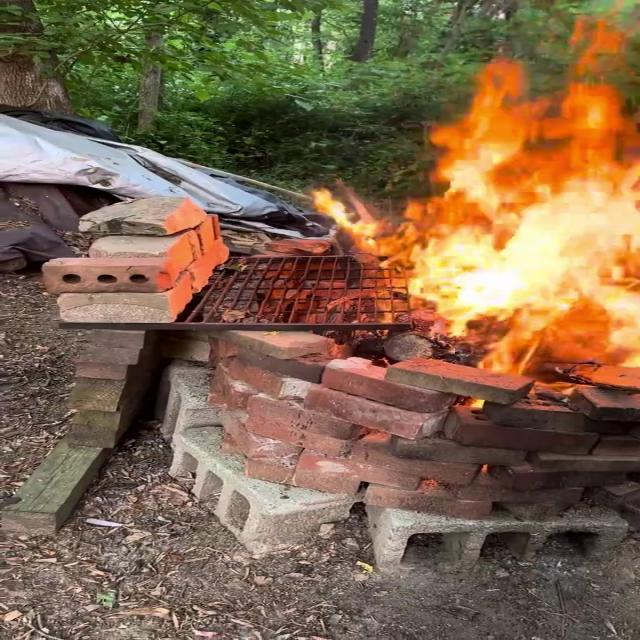Fire: (323, 17, 640, 372)
